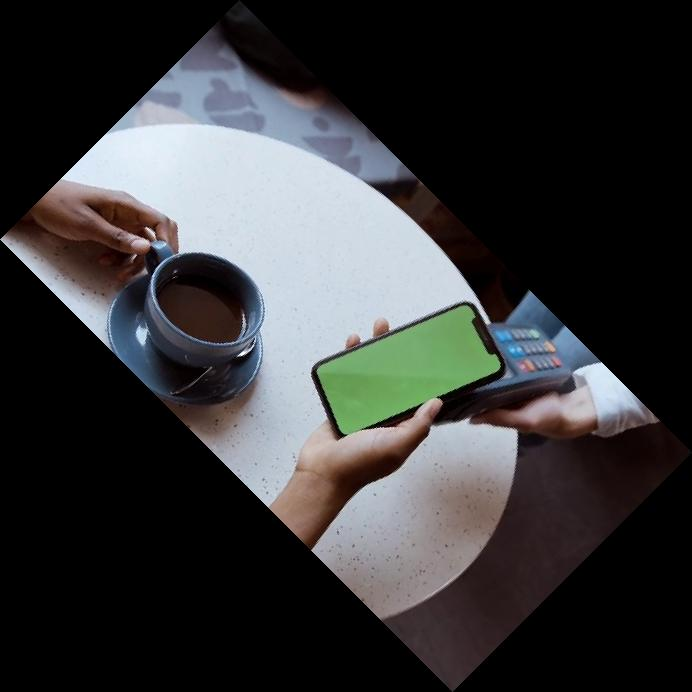phone: (306, 299, 509, 442)
